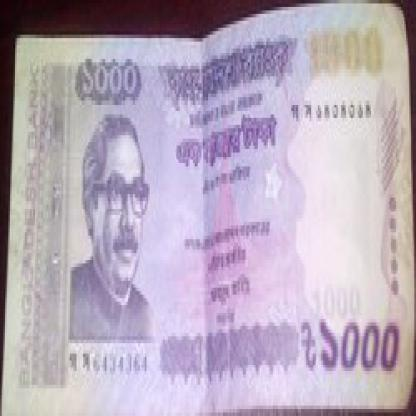One Thousand taka: (301, 305, 403, 381), (75, 56, 141, 114)
